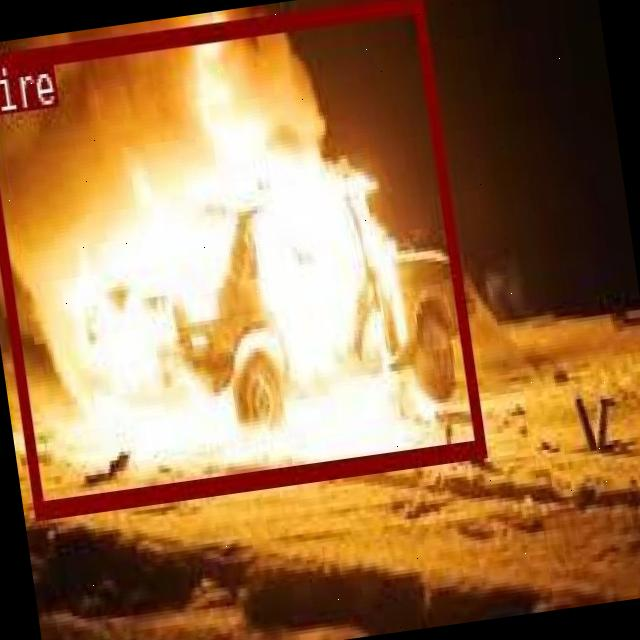fire: (0, 0, 483, 516)
